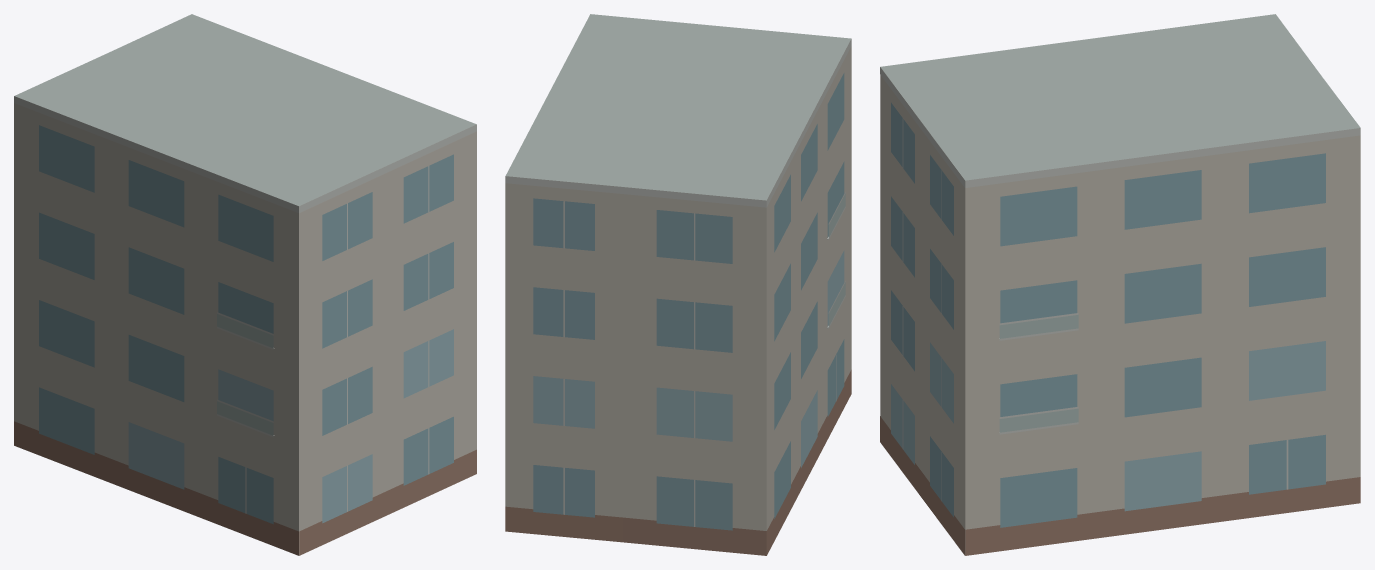
File: residential-814abf7b-a905-44ce-a939-58ea76996825.glb
The picture shows the model from 3 angles, left to right: view 1: azimuth 30°, elevation 25°; view 2: azimuth 150°, elevation 25°; view 3: azimuth 270°, elevation 25°; orthographic projection. The views are drawn at different scales.
Visible parts, largest first — view 1: residential-814abf7b-a905-44ce-a939-58ea76996825.tmp; view 2: residential-814abf7b-a905-44ce-a939-58ea76996825.tmp; view 3: residential-814abf7b-a905-44ce-a939-58ea76996825.tmp.
Boxes of the visible parts, left/top/right/bottom form: residential-814abf7b-a905-44ce-a939-58ea76996825.tmp: left=14, top=14, right=476, bottom=555; residential-814abf7b-a905-44ce-a939-58ea76996825.tmp: left=505, top=14, right=851, bottom=555; residential-814abf7b-a905-44ce-a939-58ea76996825.tmp: left=880, top=14, right=1360, bottom=555.
Bounding box in the file's own units: 11.63 × 12.2 × 14.17.
